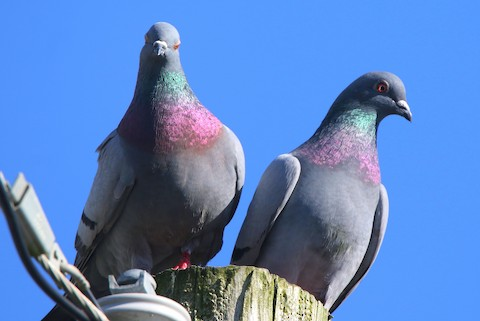pigeon: (60, 19, 246, 312), (223, 66, 421, 313)
